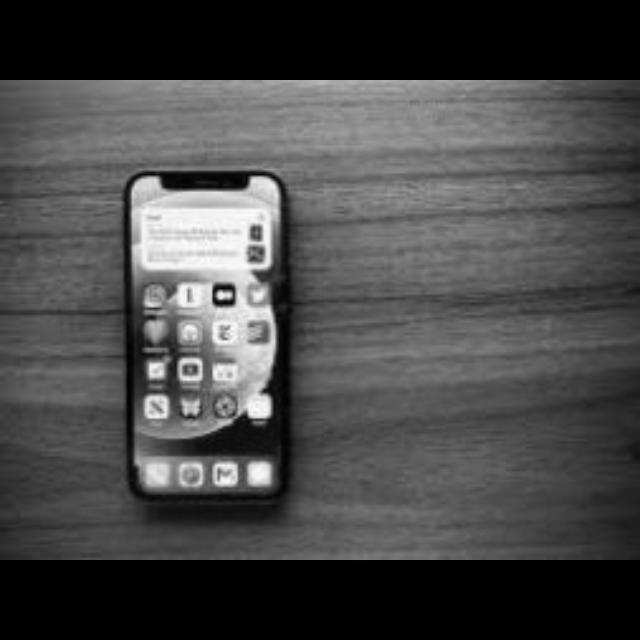fake: (124, 170, 296, 518)
